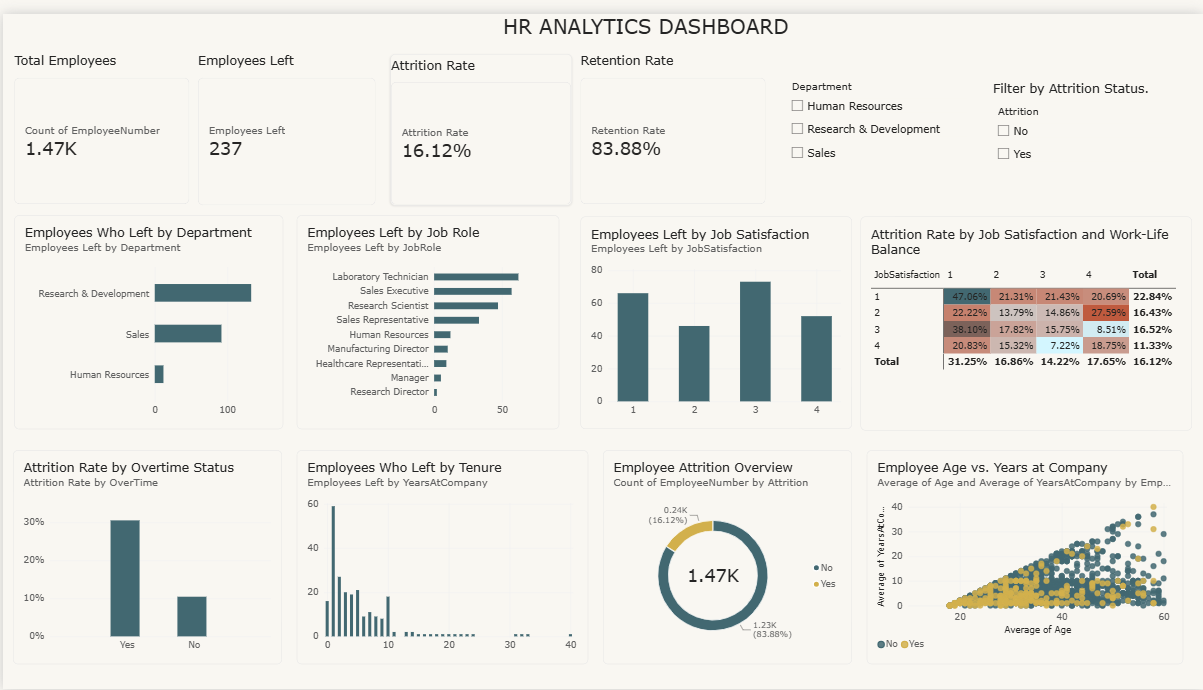

The dashboard page shown, as its layout file describes it:
{"tool":"powerbi","page":{"name":"Page 1","canvas":[1920,1080],"ordinal":0},"visuals":[{"type":"cardVisual","title":"Total Employees","fields":{"Data":["Count(HR_Analytics.EmployeeNumber)"]},"box":[18,62,280,242],"z":0},{"type":"cardVisual","title":"Employees Left","fields":{"Data":["hr_employees.Employees Left"]},"box":[312,62,284,244],"z":1},{"type":"cardVisual","title":"Attrition Rate","fields":{"Data":["hr_employees.Attrition Rate"]},"box":[619,64,290,242],"z":2},{"type":"clusteredBarChart","title":"Employees Who Left by Department","fields":{"Category":["hr_employees.Department"],"Y":["hr_employees.Employees Left"]},"box":[18,322,430,342],"z":3},{"type":"clusteredColumnChart","title":"Attrition Rate by Overtime Status","fields":{"Category":["hr_employees.OverTime"],"Y":["hr_employees.Attrition Rate"]},"box":[16,698,430,342],"z":4},{"type":"clusteredBarChart","title":"Employees Left by Job Role","fields":{"Category":["hr_employees.JobRole"],"Y":["hr_employees.Employees Left"]},"box":[470,322,420,342],"z":5},{"type":"clusteredColumnChart","title":"Employees Who Left by Tenure","fields":{"Category":["hr_employees.YearsAtCompany"],"Y":["hr_employees.Employees Left"]},"box":[470,698,466,342],"z":6},{"type":"clusteredColumnChart","title":"Employees Left by Job Satisfaction","fields":{"Category":["hr_employees.JobSatisfaction"],"Y":["hr_employees.Employees Left"]},"box":[924,324,434,340],"z":7},{"type":"donutChart","title":"Employee Attrition Overview","fields":{"Category":["hr_employees.Attrition"],"Y":["Count(hr_employees.EmployeeNumber)"]},"box":[960,698,398,342],"z":8},{"type":"slicer","fields":{"Values":["hr_employees.Department"]},"box":[1254,106,288.3,151.7],"z":9},{"type":"scatterChart","title":"Employee Age vs. Years at Company","fields":{"Category":["hr_employees.EmployeeNumber"],"Series":["hr_employees.Attrition"],"X":["Avg(hr_employees.Age)"],"Y":["Avg(hr_employees.YearsAtCompany)"]},"box":[1382,698,506,342],"z":10},{"type":"cardVisual","title":"Retention Rate","fields":{"Data":["hr_employees.Retention Rate"]},"box":[924,62,296,242],"z":11},{"type":"slicer","title":"Filter by Attrition Status.","fields":{"Values":["hr_employees.Attrition"]},"box":[1584,106,288.3,221.7],"z":12},{"type":"pivotTable","title":"Attrition Rate by Job Satisfaction and Work-Life Balance","fields":{"Columns":["hr_employees.WorkLifeBalance"],"Rows":["hr_employees.JobSatisfaction"],"Values":["hr_employees.Attrition Rate"]},"box":[1372,324,530,342],"z":13},{"type":"textbox","box":[800,0,838,46],"z":14}]}

Visuals, with their boxes in screenshot pixels (x1, y1, x2, y2), scaled from the page's 1920x1080 canvas onto the 1203x690 screenshot:
"Total Employees" cardVisual: [left=11, top=40, right=187, bottom=194]
"Employees Left" cardVisual: [left=195, top=40, right=373, bottom=195]
"Attrition Rate" cardVisual: [left=388, top=41, right=570, bottom=195]
"Employees Who Left by Department" clusteredBarChart: [left=11, top=206, right=281, bottom=424]
"Attrition Rate by Overtime Status" clusteredColumnChart: [left=10, top=446, right=279, bottom=664]
"Employees Left by Job Role" clusteredBarChart: [left=294, top=206, right=558, bottom=424]
"Employees Who Left by Tenure" clusteredColumnChart: [left=294, top=446, right=586, bottom=664]
"Employees Left by Job Satisfaction" clusteredColumnChart: [left=579, top=207, right=851, bottom=424]
"Employee Attrition Overview" donutChart: [left=602, top=446, right=851, bottom=664]
slicer - hr_employees.Department: [left=786, top=68, right=966, bottom=165]
"Employee Age vs. Years at Company" scatterChart: [left=866, top=446, right=1183, bottom=664]
"Retention Rate" cardVisual: [left=579, top=40, right=764, bottom=194]
"Filter by Attrition Status." slicer: [left=992, top=68, right=1173, bottom=209]
"Attrition Rate by Job Satisfaction and Work-Life Balance" pivotTable: [left=860, top=207, right=1192, bottom=425]
textbox: [left=501, top=0, right=1026, bottom=29]
